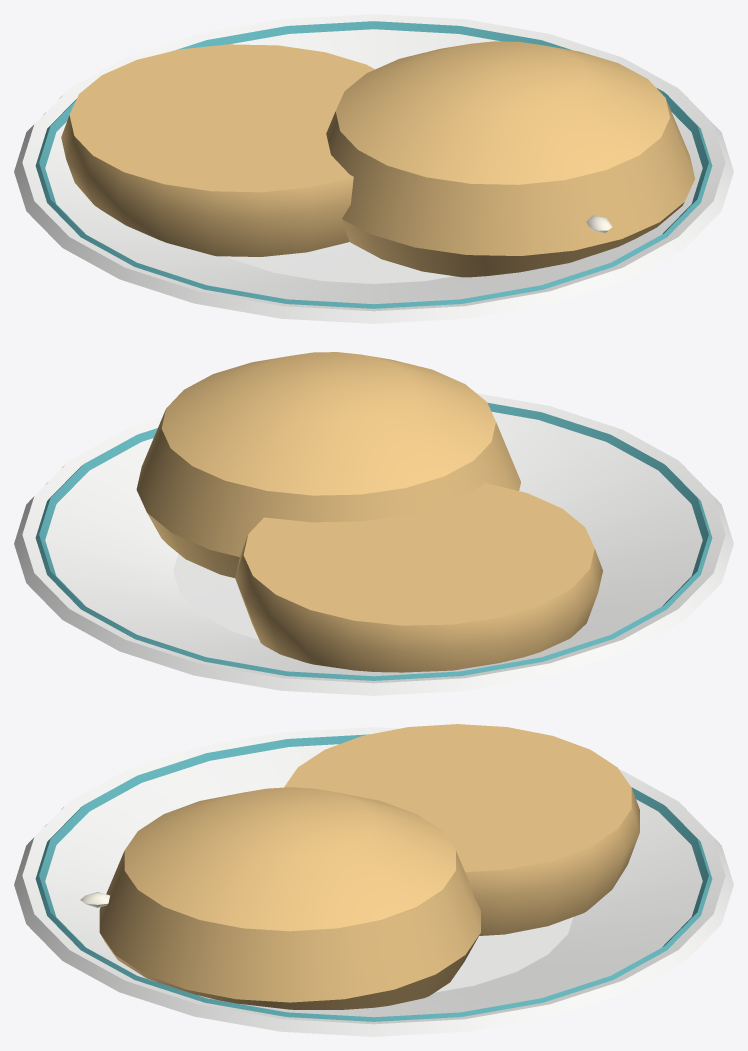
The model's file is kr_dish_bun.glb.
3 renders of one model, top to bottom at view 1: azimuth 30°, elevation 25°; view 2: azimuth 150°, elevation 25°; view 3: azimuth 270°, elevation 25°, orthographic.
Visible parts, largest first — view 1: vc_m0_r4, vc_m0_r2; view 2: vc_m0_r4, vc_m0_r2; view 3: vc_m0_r4, vc_m0_r2.
Boxes of the visible parts, bbox=[...] form: vc_m0_r4: bbox=[35, 21, 712, 308]; vc_m0_r2: bbox=[14, 14, 733, 323]; vc_m0_r4: bbox=[35, 352, 712, 680]; vc_m0_r2: bbox=[14, 393, 733, 695]; vc_m0_r4: bbox=[35, 724, 712, 1021]; vc_m0_r2: bbox=[14, 727, 733, 1036].
Size of the model in its own units: 0.43 by 0.11 by 0.43.
